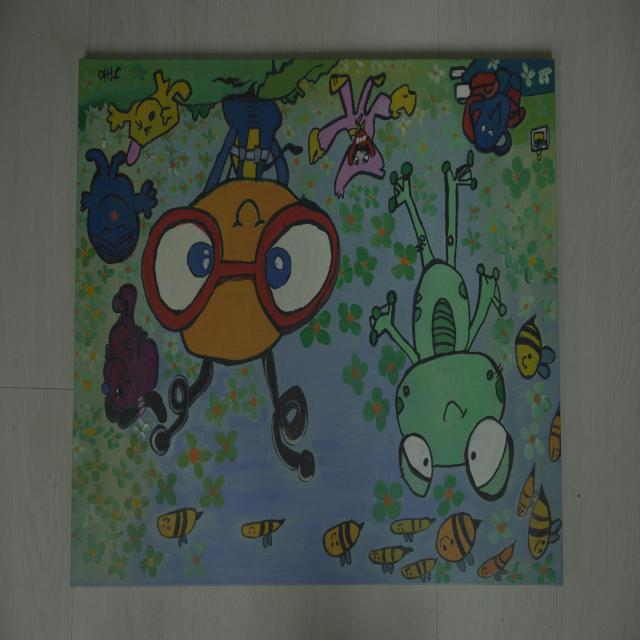painting: (73, 55, 565, 590)
